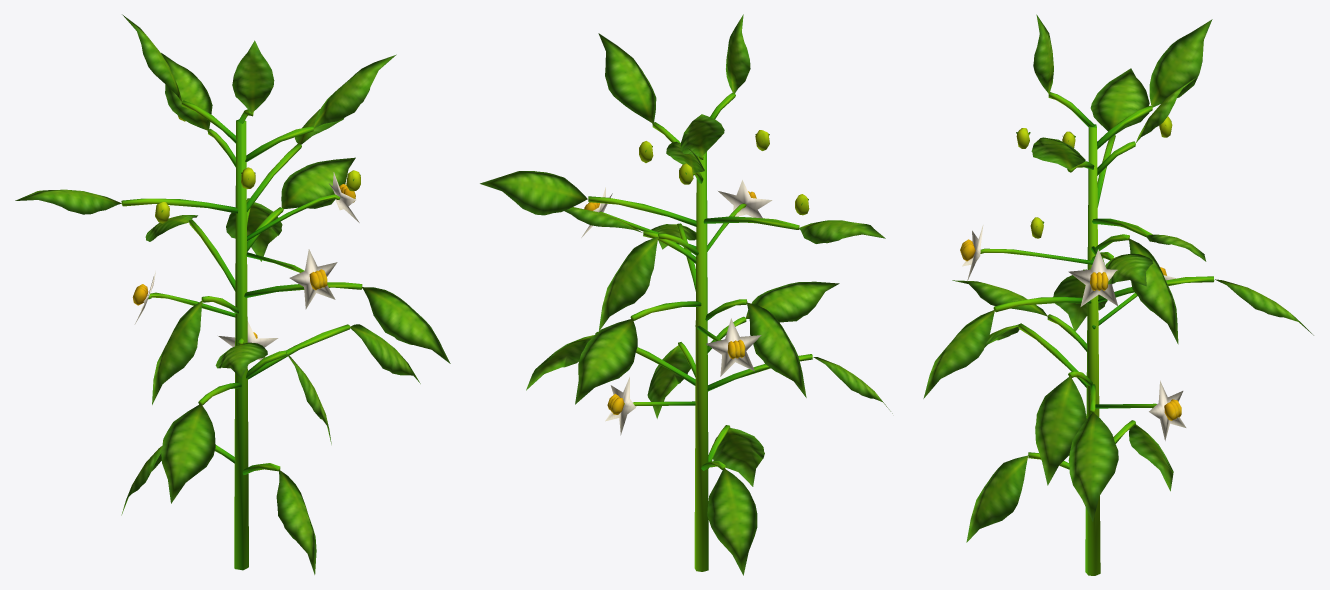
The model's file is NP_ChiliPepper_Flowering_LOD1.fbx.
3 renders of one model, left to right at view 1: azimuth 30°, elevation 25°; view 2: azimuth 150°, elevation 25°; view 3: azimuth 270°, elevation 25°, orthographic. The views are drawn at different scales.
Visible parts, largest first — view 1: NP_ChiliPepper_Flowering; view 2: NP_ChiliPepper_Flowering; view 3: NP_ChiliPepper_Flowering.
Boxes of the visible parts, x1=… form: NP_ChiliPepper_Flowering: x1=15, y1=14, x2=450, y2=574; NP_ChiliPepper_Flowering: x1=480, y1=14, x2=892, y2=575; NP_ChiliPepper_Flowering: x1=923, y1=14, x2=1313, y2=575.
Bounding box in the file's own units: 82.1 × 111 × 71.75.
